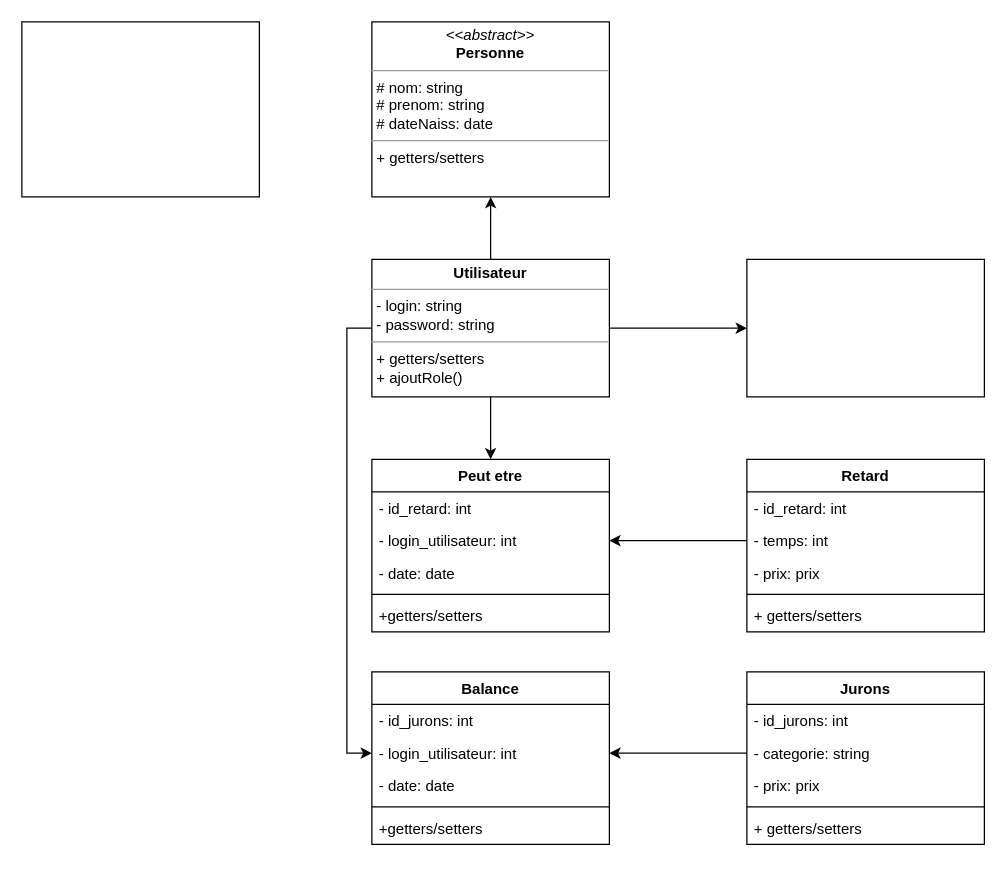
Some shapes in this 1006 by 870 pixel diagram are drawn without their labels. Each missing label, with the centre of its shape:
"DBManager + insert(): bool + update()! bool + select(): object + delete(): bool" belongs at (x=140, y=109).
"Roles - id_role: int - type: string + getters/setters" belongs at (x=865, y=327).
